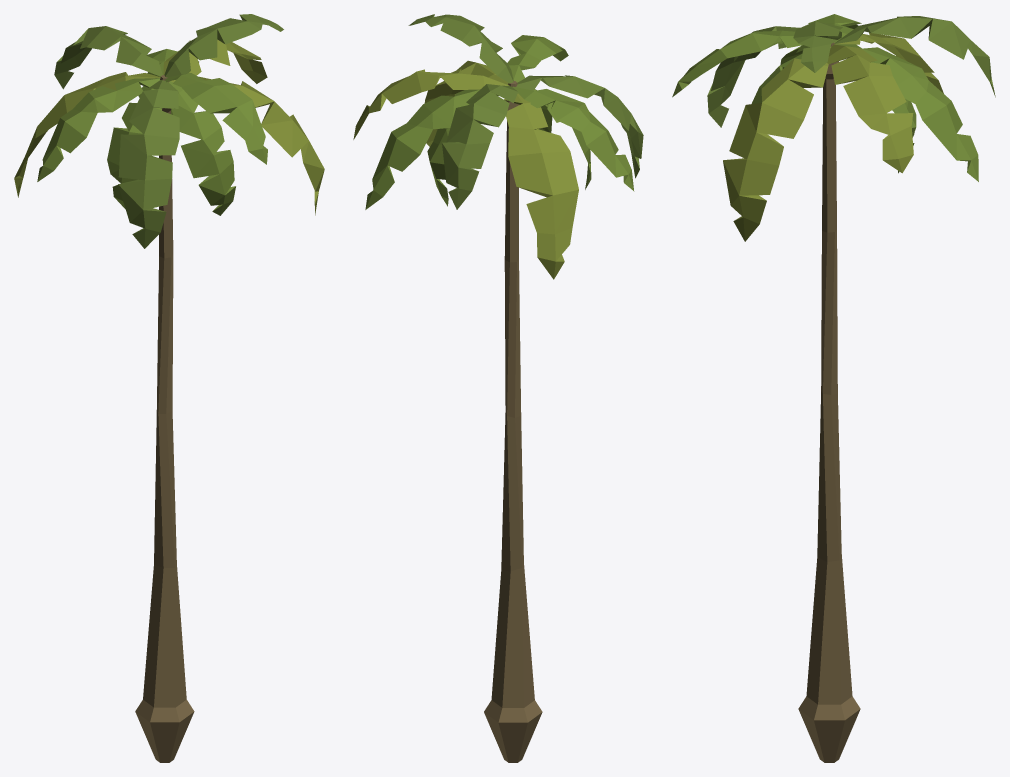
File: Palm_4.fbx
3 views of the same model, side by side, from view 1: azimuth 30°, elevation 25°; view 2: azimuth 150°, elevation 25°; view 3: azimuth 270°, elevation 25° (orthographic). The views are drawn at different scales.
Parts seen in each view (by area): view 1: Palm_4; view 2: Palm_4; view 3: Palm_4.
Boxes of the visible parts, x1=… form: Palm_4: x1=14, y1=14, x2=324, y2=762; Palm_4: x1=353, y1=14, x2=643, y2=762; Palm_4: x1=672, y1=14, x2=995, y2=762.
Bounding box in the file's own units: 302 × 826 × 318.
